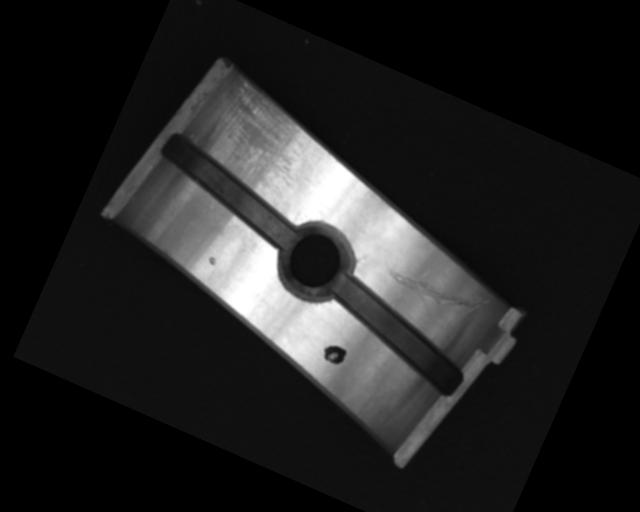blot: (319, 340, 349, 368)
bruise: (206, 255, 219, 266)
gap: (310, 269, 484, 402), (143, 129, 313, 251)
hole: (267, 211, 364, 309)
nick: (374, 257, 491, 339)
scratch: (194, 74, 324, 200)
